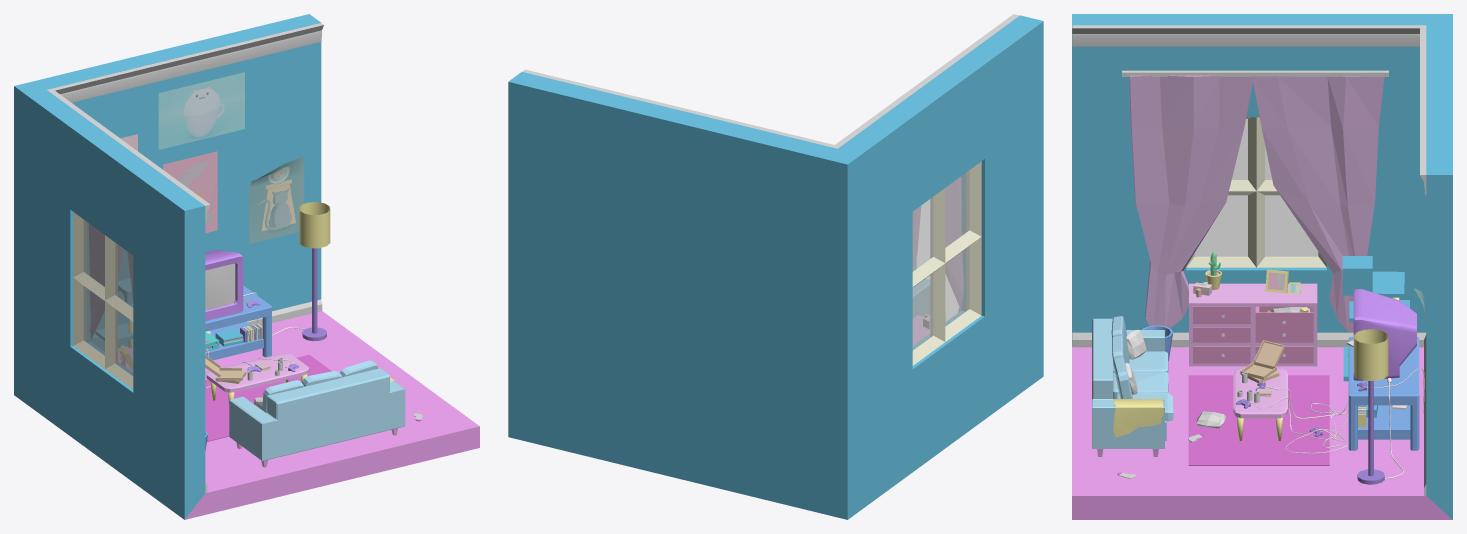
File: GamingRoom.fbx
3 views of the same model, side by side, from view 1: azimuth 30°, elevation 25°; view 2: azimuth 150°, elevation 25°; view 3: azimuth 270°, elevation 25° (orthographic). The views are drawn at different scales.
Parts seen in each view (by area): view 1: Room, Couch, Room.001, Cube.132, Plane.006, Plane, Cylinder.004, Plane.011, Plane.001, Table, TvTable, TV (+6 smaller); view 2: Room, Room.001, Plane.004, Cube.018, Cube.132; view 3: Room, Plane.004, Plane.005, Plane.001, Room.001, Cube.018, Couch, Drawers, Cube.063, TvTable, TV, Cylinder.004 (+17 smaller).
Boxes of the visible parts, x1=… form: Room: x1=14, y1=14, x2=479, y2=519; Couch: x1=229, y1=368, x2=405, y2=460; Room.001: x1=73, y1=212, x2=133, y2=389; Cube.132: x1=47, y1=23, x2=323, y2=102; Plane.006: x1=158, y1=72, x2=244, y2=149; Plane: x1=249, y1=156, x2=304, y2=243; Cylinder.004: x1=299, y1=202, x2=330, y2=341; Plane.011: x1=163, y1=151, x2=217, y2=233; Plane.001: x1=205, y1=354, x2=331, y2=441; Table: x1=206, y1=353, x2=309, y2=392; TvTable: x1=205, y1=285, x2=271, y2=357; TV: x1=205, y1=250, x2=243, y2=320; Room: x1=508, y1=15, x2=1043, y2=519; Room.001: x1=912, y1=161, x2=981, y2=365; Plane.004: x1=945, y1=177, x2=963, y2=312; Cube.018: x1=834, y1=14, x2=1019, y2=147; Cube.132: x1=522, y1=69, x2=840, y2=148; Room: x1=1072, y1=14, x2=1452, y2=519; Plane.004: x1=1129, y1=75, x2=1252, y2=327; Plane.005: x1=1252, y1=76, x2=1384, y2=332; Plane.001: x1=1188, y1=375, x2=1329, y2=465; Room.001: x1=1186, y1=117, x2=1326, y2=267; Cube.018: x1=1072, y1=25, x2=1419, y2=46; Couch: x1=1092, y1=318, x2=1166, y2=448; Drawers: x1=1189, y1=283, x2=1317, y2=366; Cube.063: x1=1193, y1=306, x2=1313, y2=363; TvTable: x1=1348, y1=337, x2=1419, y2=450; TV: x1=1353, y1=289, x2=1416, y2=380; Cylinder.004: x1=1353, y1=329, x2=1388, y2=484.
Size of the model in its own units: 1075 by 1075 by 1075.
27 materials, 4 textured.
